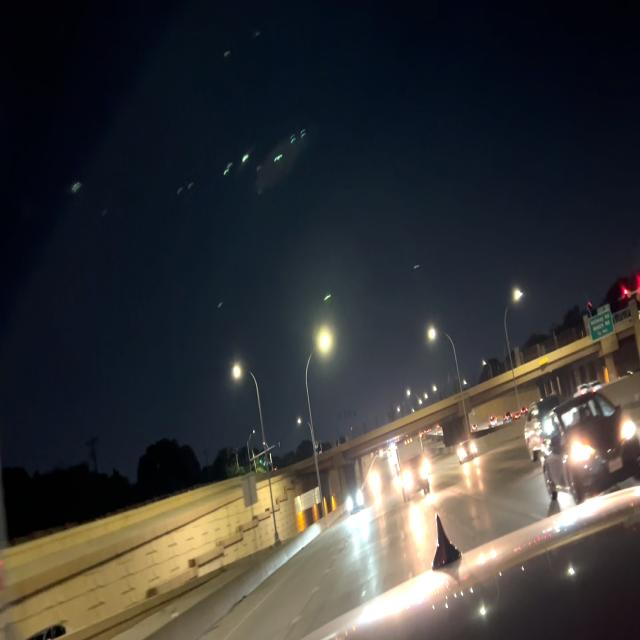back-of-sign: (293, 484, 323, 512), (241, 469, 259, 512)
